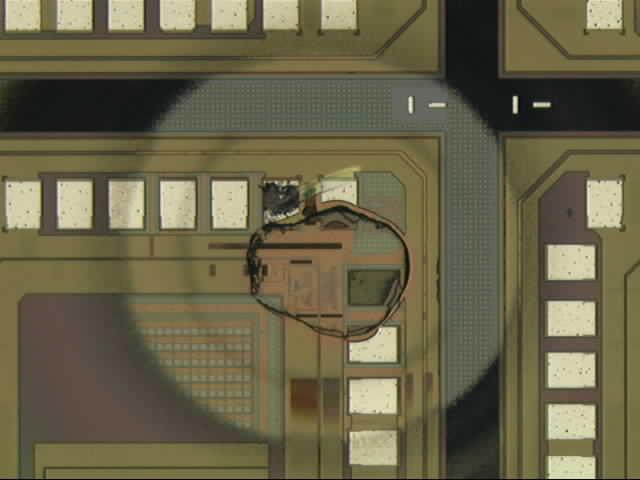BLOCK ETCH: (104, 25, 544, 465)
